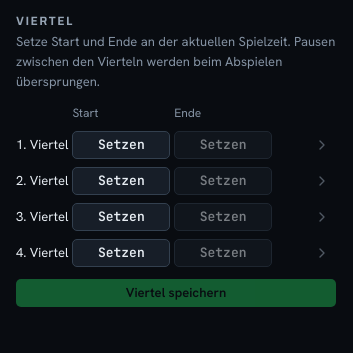
QuarterEditor › surfaces a save failure
Click the 1st button "Setzen": (121, 145) [72,131,170,159]
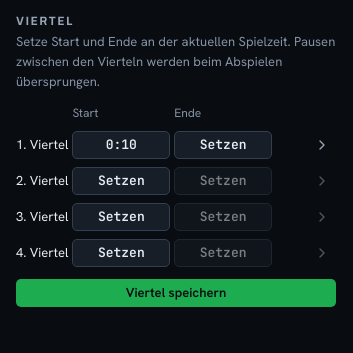
Click the button "Viertel speichern": (176, 293) [16,279,336,307]
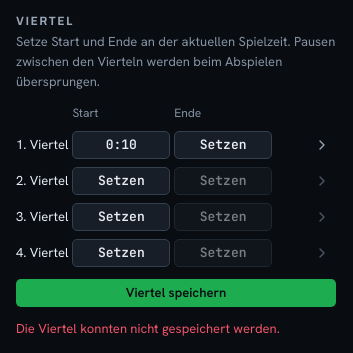
Expected: the message reads "Die Viertel konnten nicht gespeichert werden.", [16,320,280,337]
